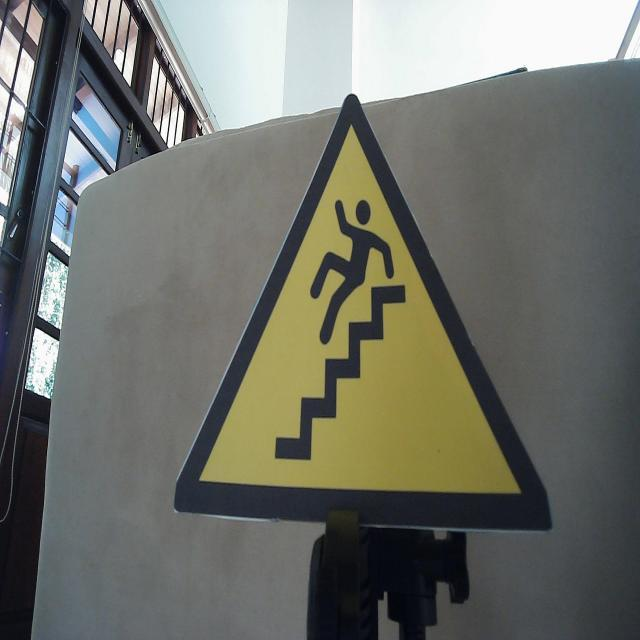stairs: (171, 92, 556, 536)
